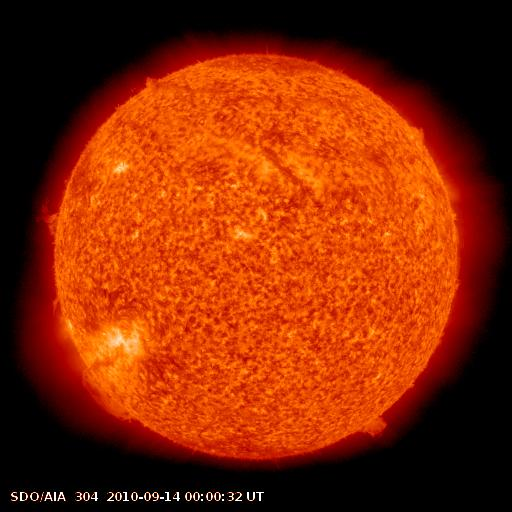prominence: (74, 363, 139, 428), (24, 191, 72, 244), (349, 402, 395, 452), (133, 67, 168, 99), (404, 114, 432, 150)
